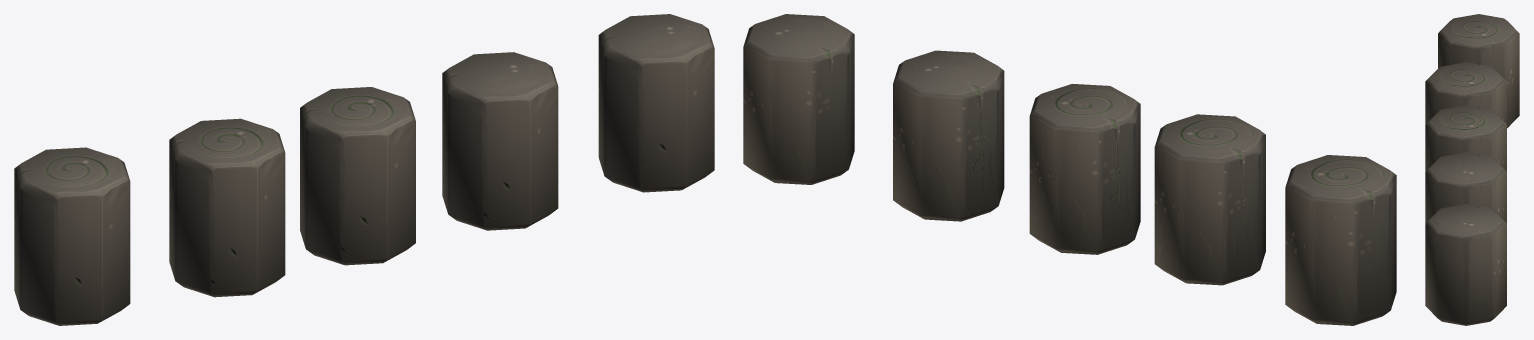
The model's file is SM_Small_Rocks_Scene_JFG.fbx.
3 renders of one model, left to right at view 1: azimuth 30°, elevation 25°; view 2: azimuth 150°, elevation 25°; view 3: azimuth 270°, elevation 25°, orthographic. The views are drawn at different scales.
Visible parts, largest first — view 1: SM_Small_Rock_4_JFG, SM_Small_Rock_5_JFG, SM_Small_Rock_1_JFG, SM_Small_Rock_2_JFG, SM_Small_Rock_3_JFG; view 2: SM_Small_Rock_2_JFG, SM_Small_Rock_4_JFG, SM_Small_Rock_1_JFG, SM_Small_Rock_5_JFG, SM_Small_Rock_3_JFG; view 3: SM_Small_Rock_5_JFG, SM_Small_Rock_1_JFG, SM_Small_Rock_4_JFG, SM_Small_Rock_3_JFG, SM_Small_Rock_2_JFG.
Part boxes in pixels (x1=…): SM_Small_Rock_4_JFG: x1=442, y1=52, x2=558, y2=230; SM_Small_Rock_5_JFG: x1=598, y1=14, x2=714, y2=192; SM_Small_Rock_1_JFG: x1=14, y1=147, x2=130, y2=325; SM_Small_Rock_2_JFG: x1=169, y1=118, x2=285, y2=297; SM_Small_Rock_3_JFG: x1=300, y1=87, x2=415, y2=265; SM_Small_Rock_2_JFG: x1=1154, y1=114, x2=1265, y2=285; SM_Small_Rock_4_JFG: x1=893, y1=50, x2=1004, y2=221; SM_Small_Rock_1_JFG: x1=1285, y1=155, x2=1396, y2=325; SM_Small_Rock_5_JFG: x1=743, y1=14, x2=854, y2=184; SM_Small_Rock_3_JFG: x1=1029, y1=84, x2=1140, y2=254; SM_Small_Rock_5_JFG: x1=1425, y1=204, x2=1506, y2=325; SM_Small_Rock_1_JFG: x1=1438, y1=14, x2=1519, y2=128; SM_Small_Rock_4_JFG: x1=1425, y1=152, x2=1506, y2=222; SM_Small_Rock_3_JFG: x1=1425, y1=105, x2=1506, y2=171; SM_Small_Rock_2_JFG: x1=1425, y1=62, x2=1506, y2=124.
Bounding box in the file's own units: 231 × 44.3 × 40.82.
